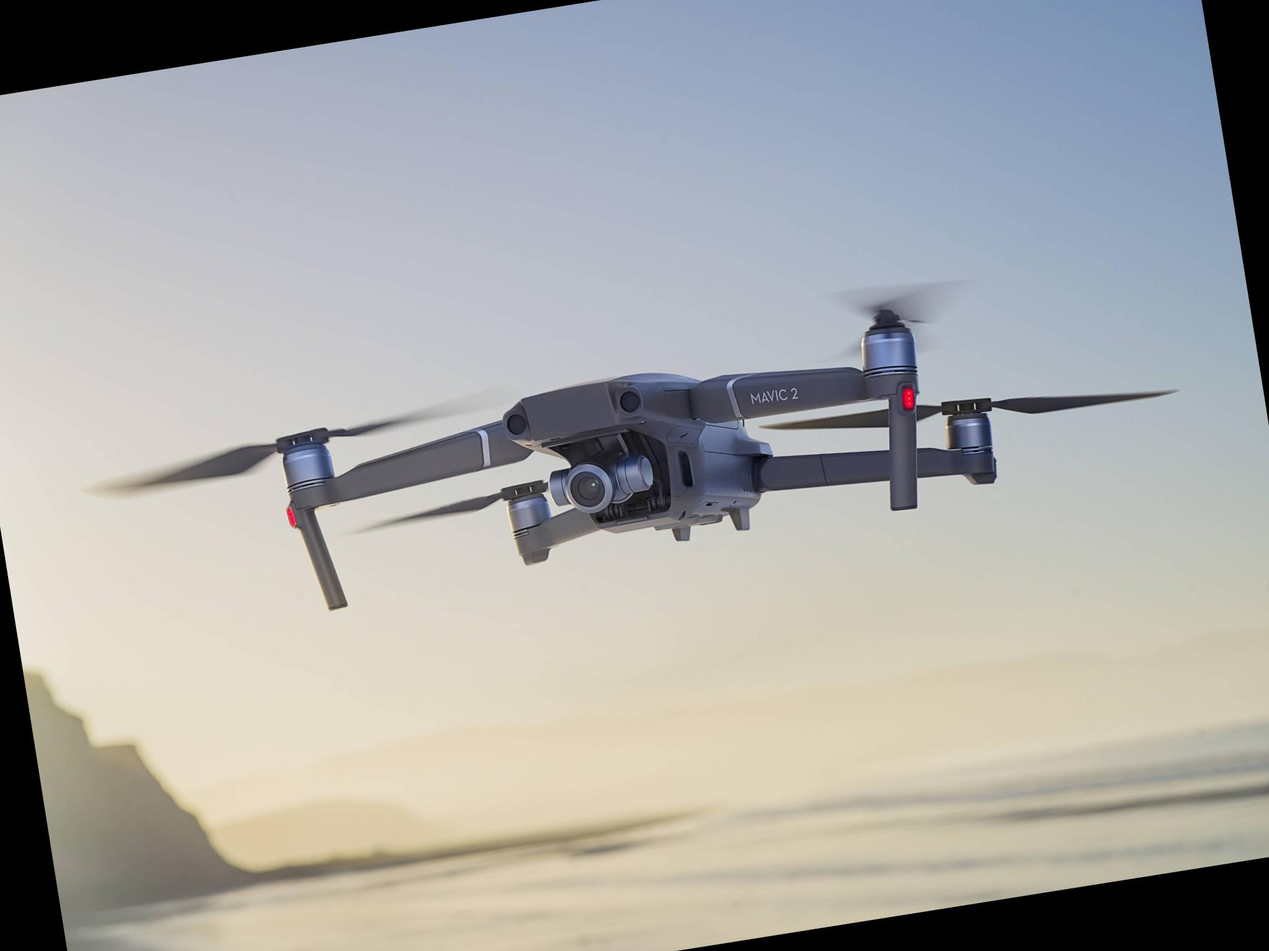drone: (171, 220, 1212, 618)
